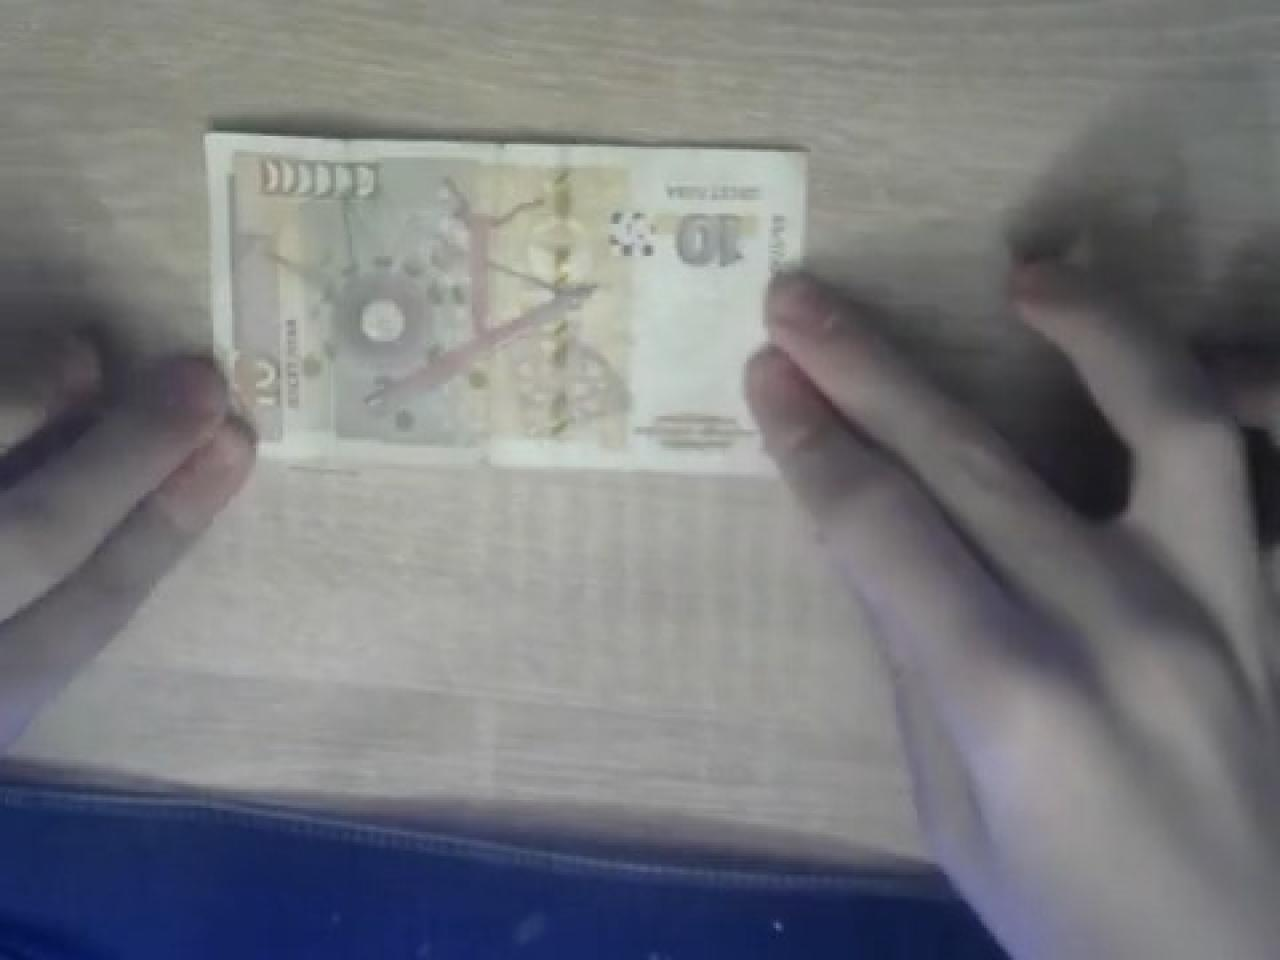10leva: (208, 125, 797, 472)
